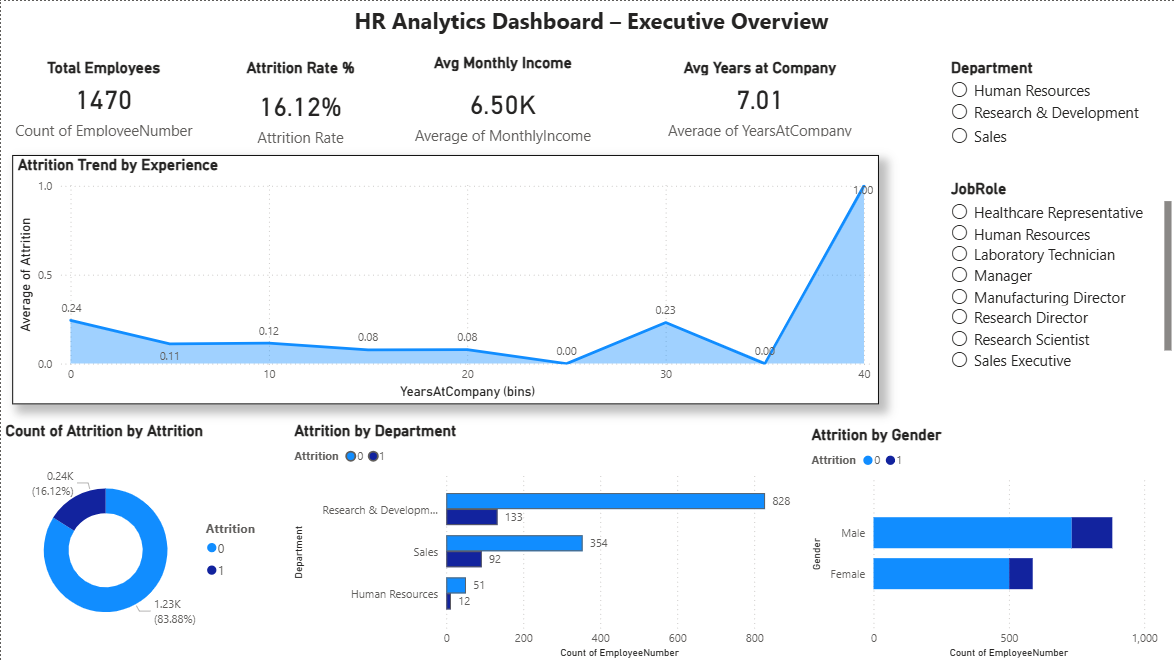

What the dashboard file says about the page in this screenshot:
{"tool":"powerbi","page":{"name":"Executive Overview1","canvas":[1280,720],"ordinal":0},"visuals":[{"type":"card","title":"Total Employees","fields":{"Values":["CountNonNull(cleaned_hr_data.EmployeeNumber)"]},"box":[0,62,224,90],"z":0},{"type":"card","title":"Attrition Rate %","fields":{"Values":["cleaned_hr_data.Attrition Rate"]},"box":[212,62,228,106],"z":1000},{"type":"card","title":"Avg Monthly Income","fields":{"Values":["Avg(cleaned_hr_data.MonthlyIncome)"]},"box":[418,58,258,110],"z":2000},{"type":"card","title":"Avg Years at Company","fields":{"Values":["Avg(cleaned_hr_data.YearsAtCompany)"]},"box":[698,62,258,90],"z":3000},{"type":"donutChart","fields":{"Category":["cleaned_hr_data.Attrition"],"Y":["CountNonNull(cleaned_hr_data.Attrition)"]},"box":[0,457.4,299.1,262.7],"z":4000},{"type":"clusteredBarChart","title":"Attrition by Department","fields":{"Category":["cleaned_hr_data.Department"],"Y":["Count(cleaned_hr_data.EmployeeNumber)"],"Series":["cleaned_hr_data.Attrition"]},"box":[314.9,457.4,563.4,262.7],"z":5000},{"type":"listSlicer","fields":{"Values":["cleaned_hr_data.Department"]},"box":[1030,62,218,228],"z":6000},{"type":"barChart","title":"Attrition by Gender","fields":{"Y":["CountNonNull(cleaned_hr_data.EmployeeNumber)"],"Category":["cleaned_hr_data.Gender"],"Series":["cleaned_hr_data.Attrition"]},"box":[878.3,462.1,387.7,258],"z":7000},{"type":"listSlicer","fields":{"Values":["cleaned_hr_data.JobRole"]},"box":[1030,194,250,220],"z":8000},{"type":"textbox","box":[0,0,1280,46],"z":9000},{"type":"lineChart","title":"Attrition Trend by Experience","fields":{"Category":["cleaned_hr_data.YearsAtCompany (bins)"],"Y":["Avg(cleaned_hr_data.Attrition)"]},"box":[12,168,944,272],"z":10000}]}

Visuals, with their boxes in screenshot pixels (x1, y1, x2, y2), scaled from the page's 1280x720 canvas onto the 1175x661 screenshot:
"Total Employees" card: crop(0, 57, 206, 140)
"Attrition Rate %" card: crop(195, 57, 404, 154)
"Avg Monthly Income" card: crop(384, 53, 621, 154)
"Avg Years at Company" card: crop(641, 57, 878, 140)
donutChart - cleaned_hr_data.Attrition x CountNonNull(cleaned_hr_data.Attrition): crop(0, 420, 275, 660)
"Attrition by Department" clusteredBarChart: crop(289, 420, 806, 660)
listSlicer - cleaned_hr_data.Department: crop(946, 57, 1146, 266)
"Attrition by Gender" barChart: crop(806, 424, 1162, 660)
listSlicer - cleaned_hr_data.JobRole: crop(946, 178, 1174, 380)
textbox: crop(0, 0, 1174, 42)
"Attrition Trend by Experience" lineChart: crop(11, 154, 878, 404)
